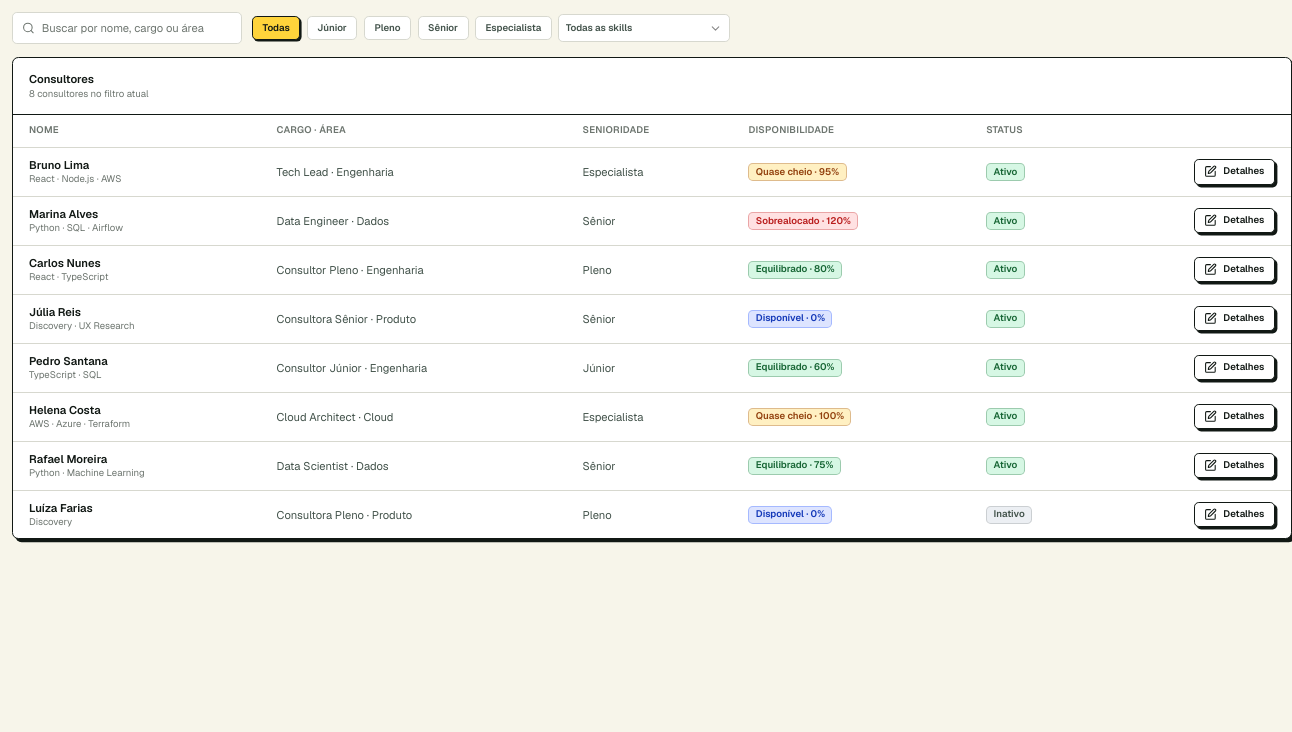
Test case: Consultores — ConsultantDirectory › renders consultants and filters by search
This screenshot has width=1292, height=732.
Expected: the text "Bruno Lima" is shown, [29,158,89,172]
Type "marina" into the search field with placeholder "Buscar por nome, cargo ou área". click: (127, 28)
box: [12,12,242,44]
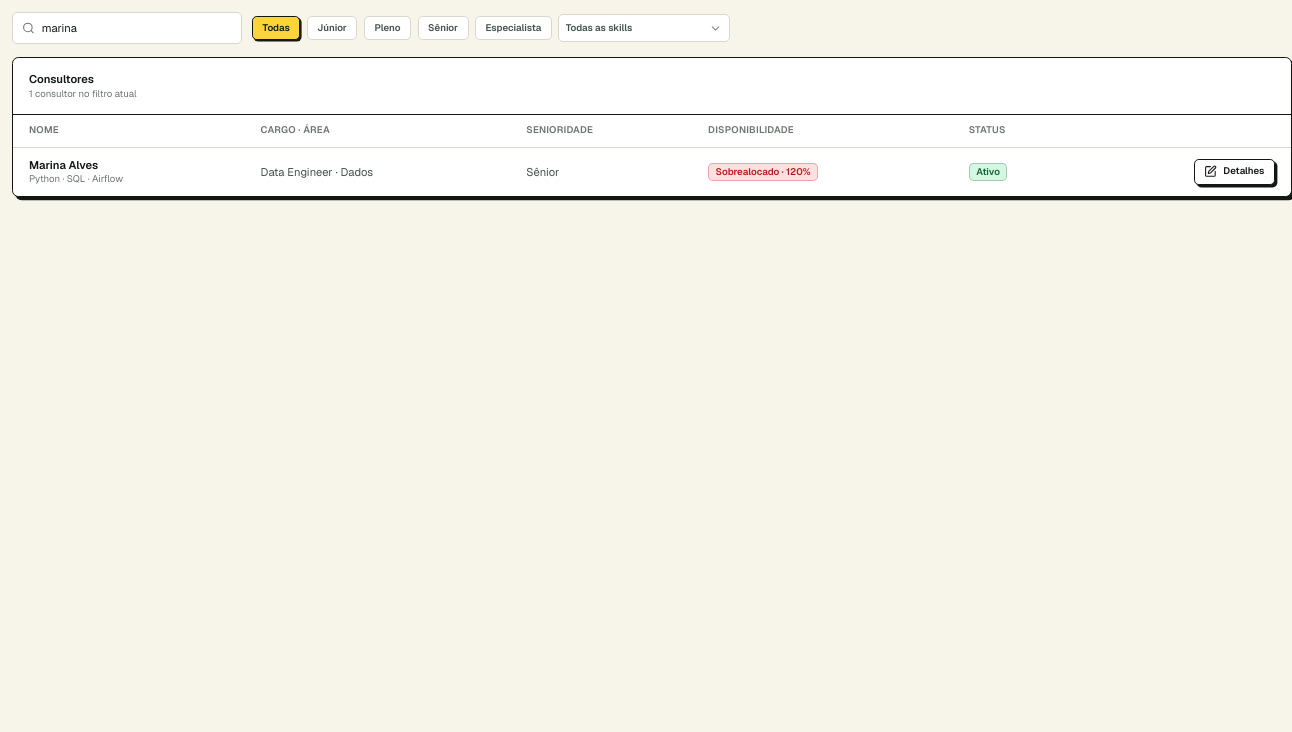
Expected: the text "Marina Alves" is shown, [29,158,98,172]
Result: the text "Bruno Lima" is gone
